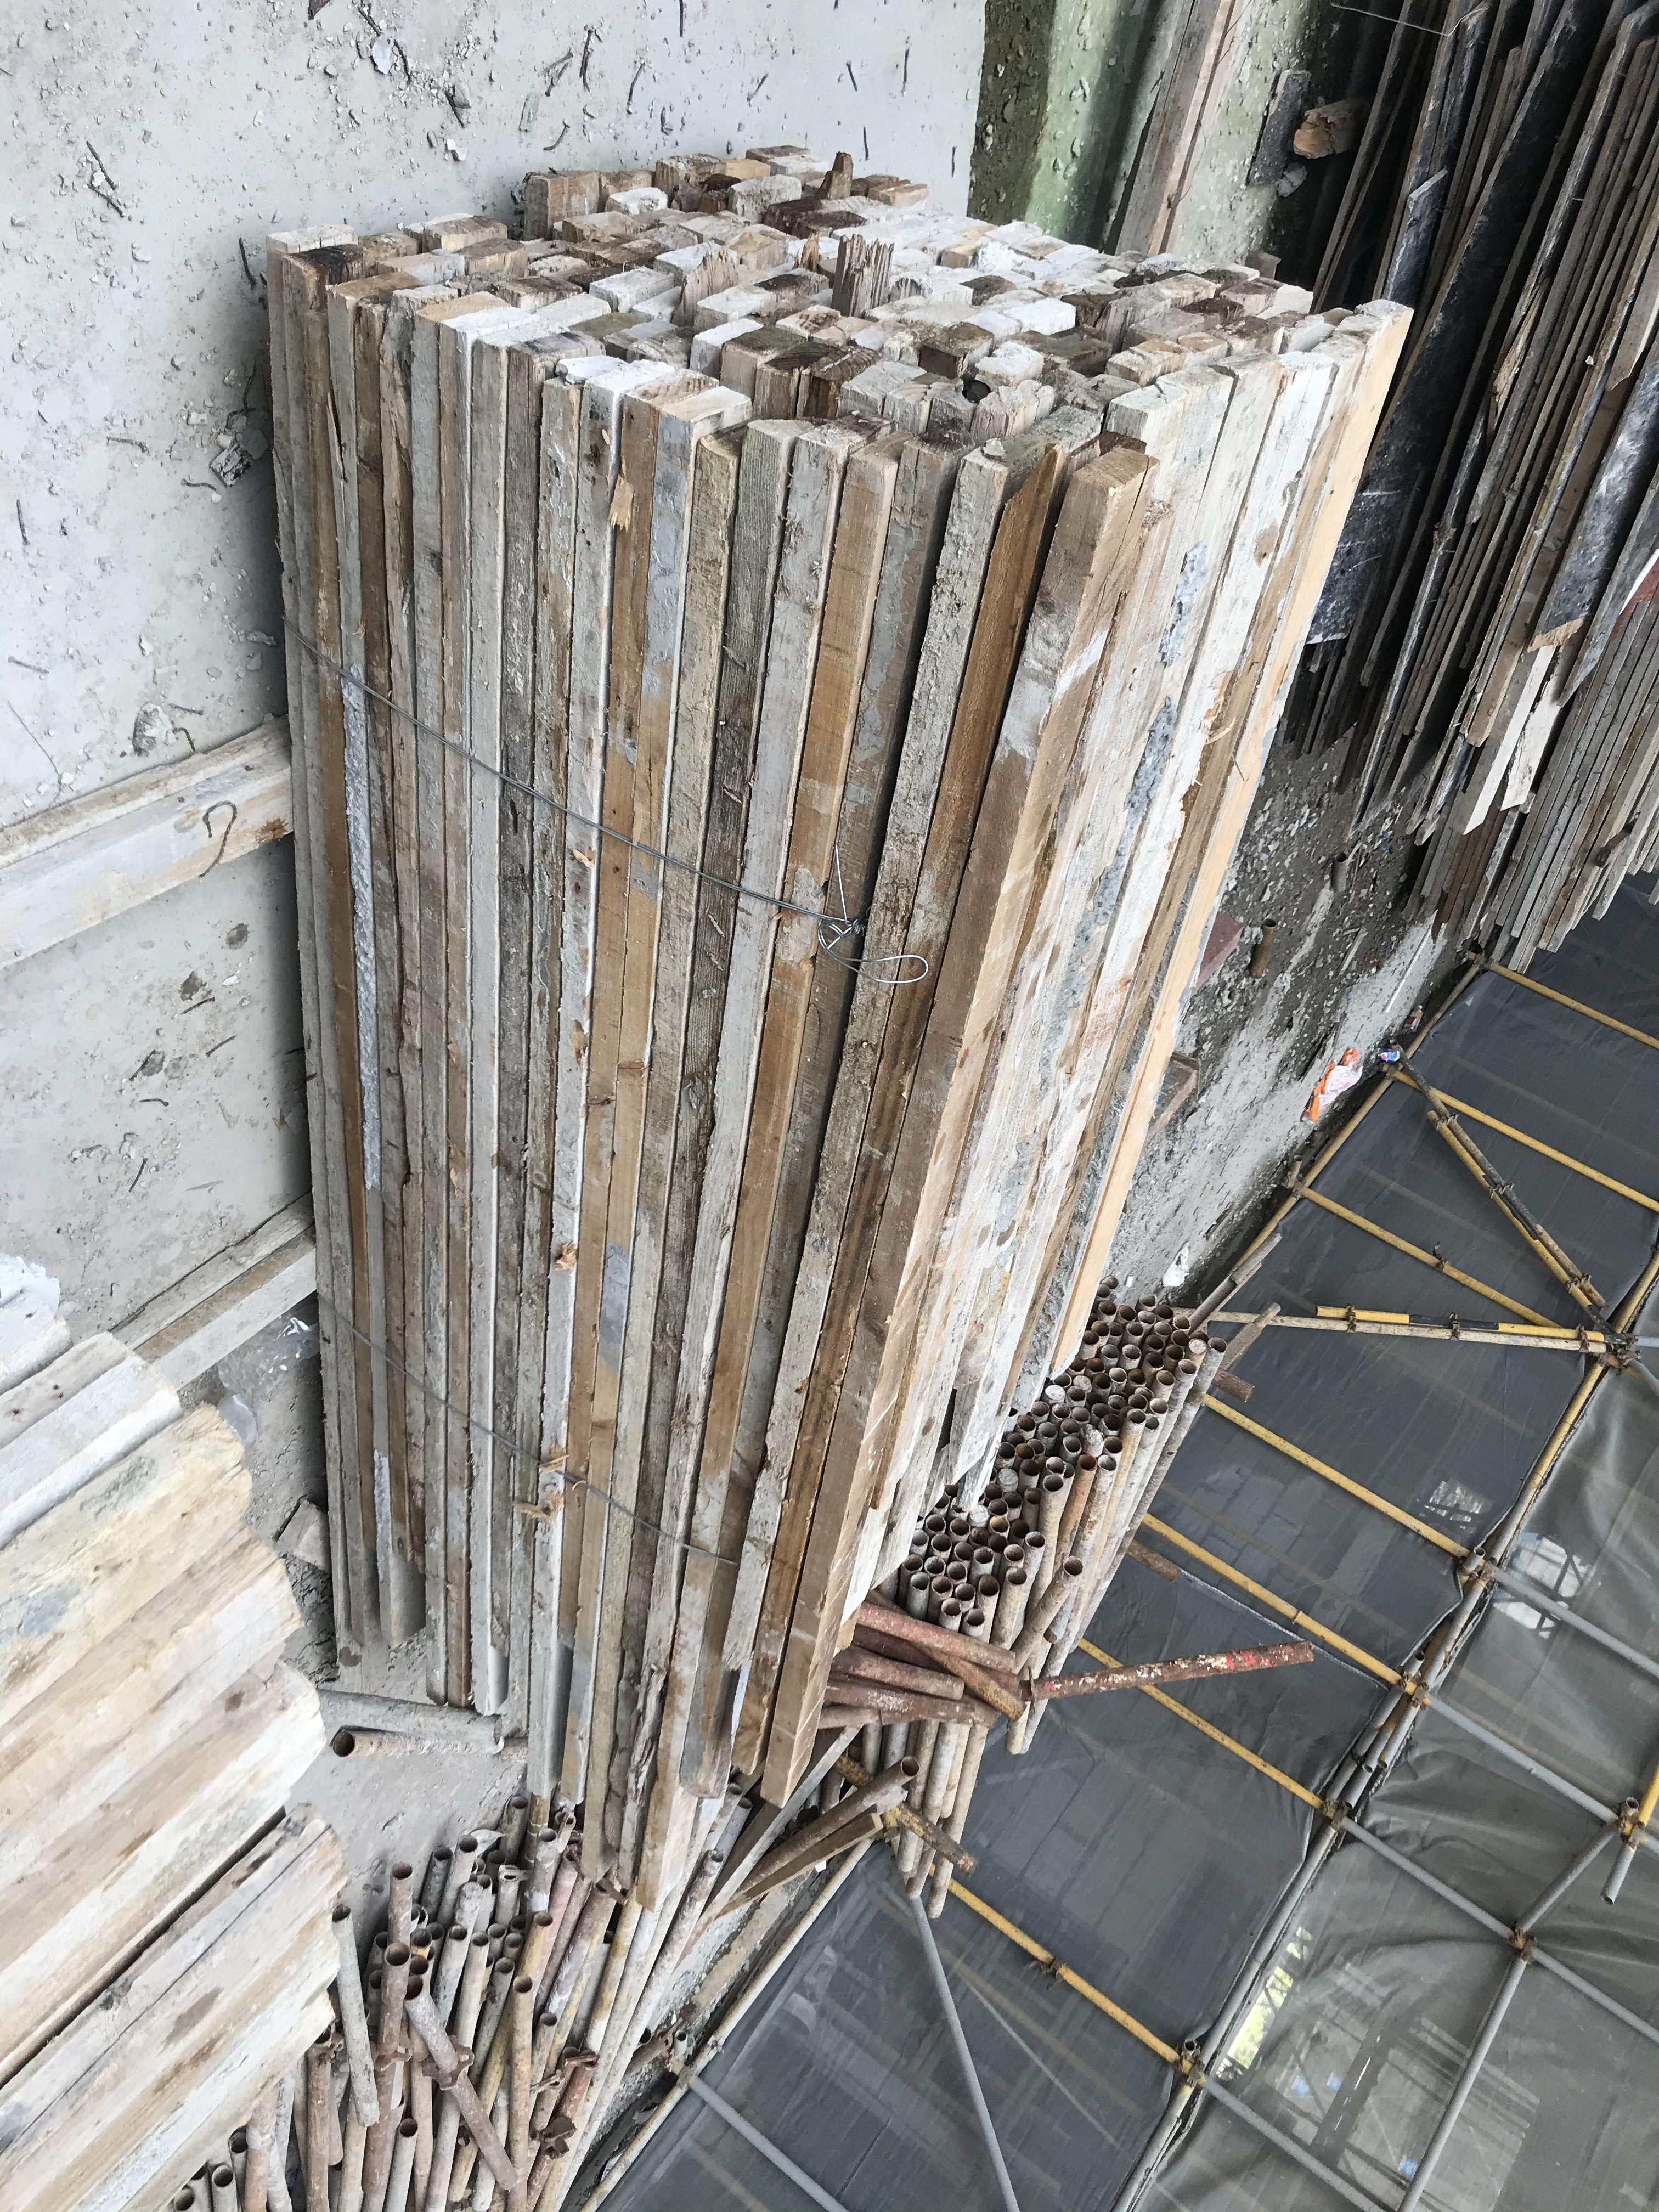board: (0, 0, 657, 354)
scaffold: (1302, 432, 1659, 801)
wood: (171, 253, 1659, 1374), (1255, 1305, 1659, 1658), (626, 0, 934, 235)
